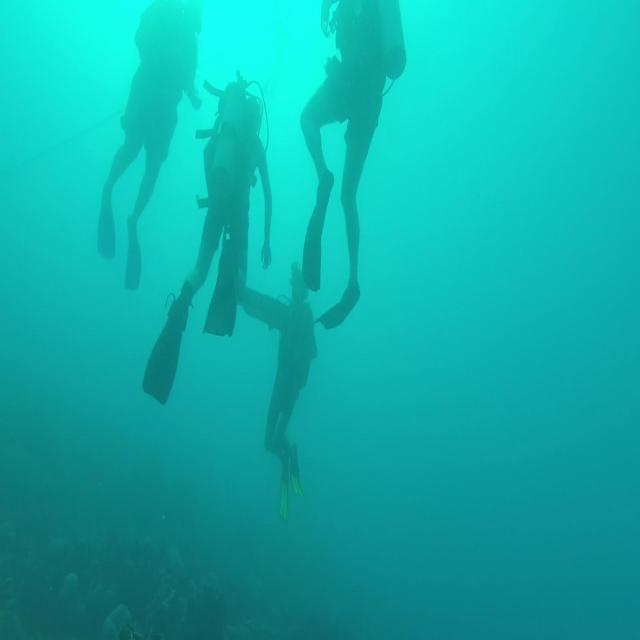human: (142, 69, 272, 405), (299, 0, 406, 329), (96, 0, 203, 290), (234, 258, 319, 520)
